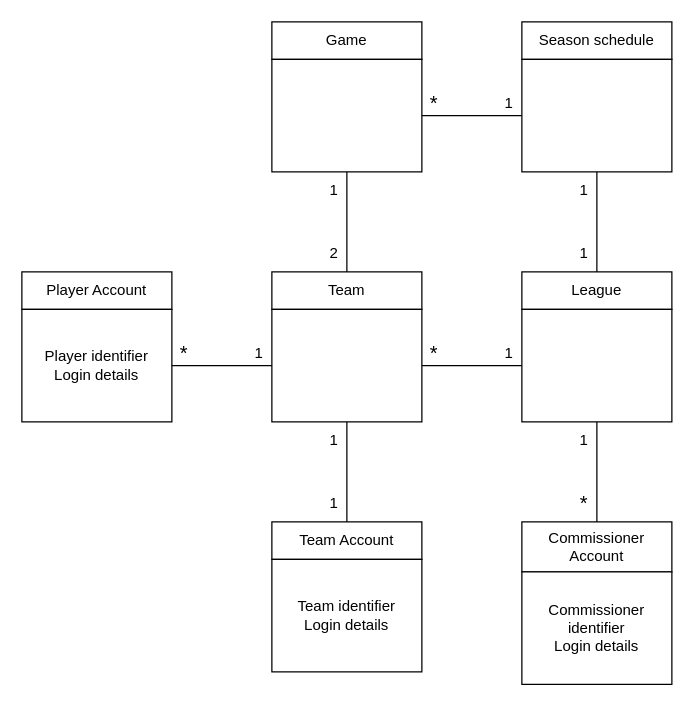
This 694x706 diagram has some shape labels left out. Each missing label, with the centre of its shape:
"Game list" goes at (596,115).
"Season schedule Team list Player list" goes at (596,365).
"Team identifier 1 Team identifier 2 Date Time" goes at (346,115).
"Team identifier Team name Player list Off day Preferred time" goes at (346,365).
